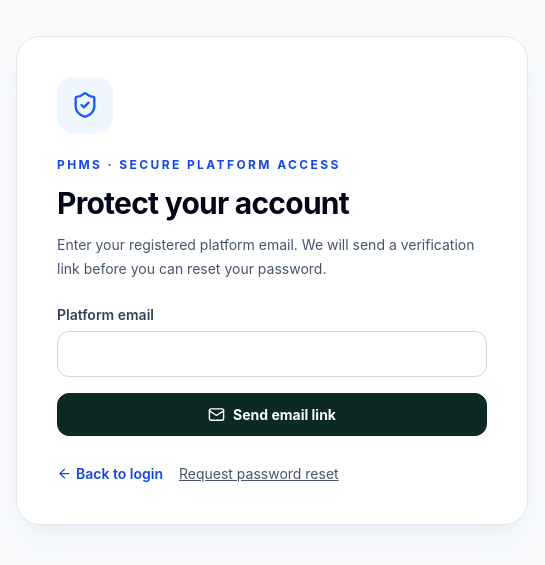
Test case: requests verification without claiming an account exists
Type "admin@example.test" into the field labelled "Platform email" at point(272, 354), box [57, 330, 487, 376]
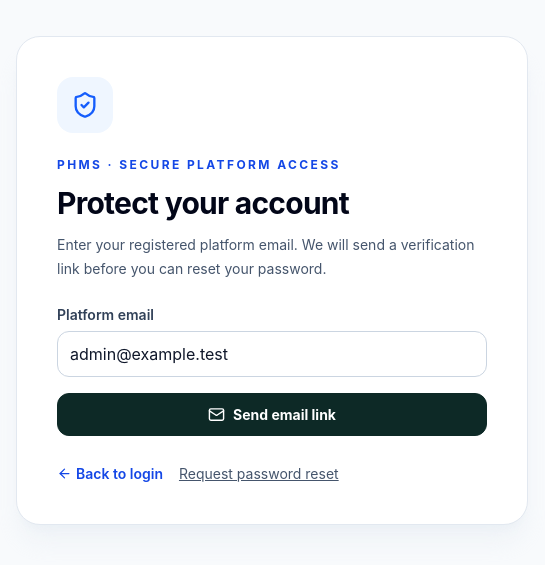
Click the button "Send email link" at point(272, 414), box [57, 392, 487, 436]
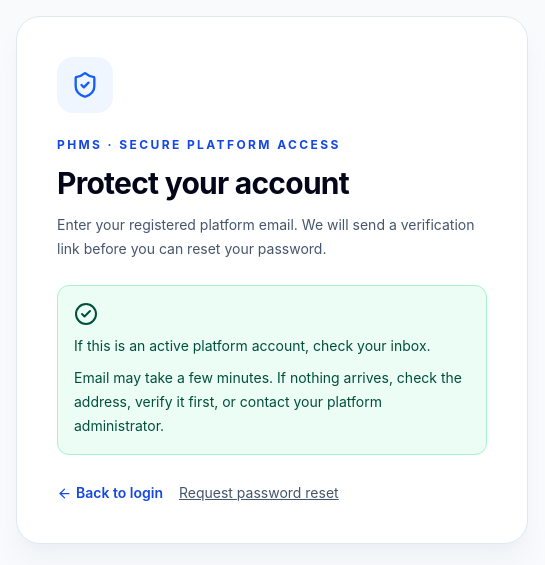
Expected: the message shows "If this is an active platform account", [74, 337, 431, 354]
